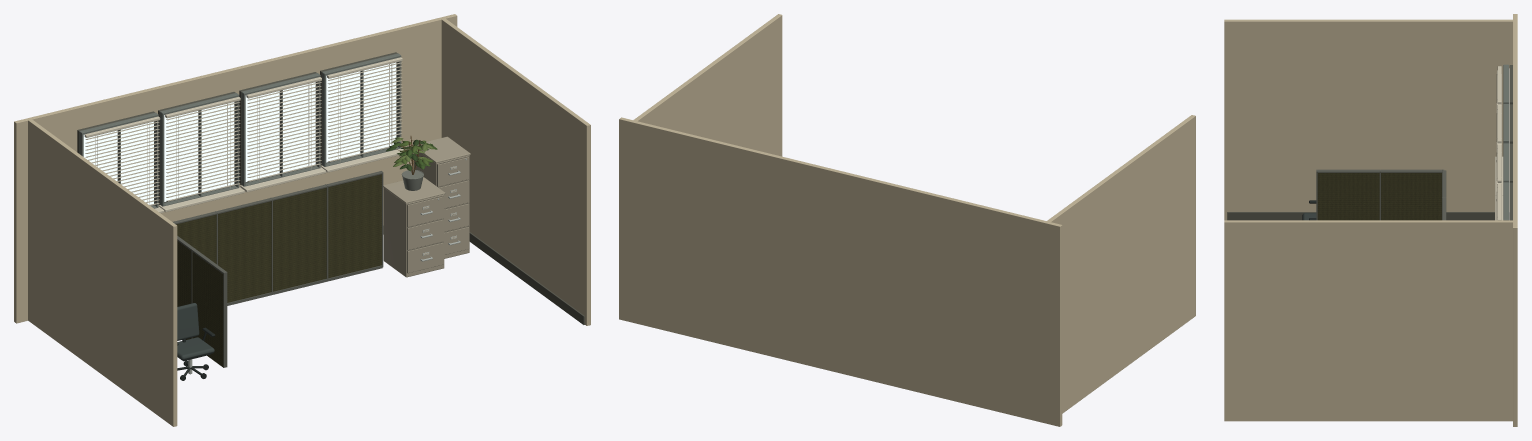
File: office-room.glb
3 views of the same model, side by side, from view 1: azimuth 30°, elevation 25°; view 2: azimuth 150°, elevation 25°; view 3: azimuth 270°, elevation 25° (orthographic).
Parts seen in each view (by area): view 1: Room_Warm painted plaster, Room_Olive woven cubicle fabric, Room_Soft daylight beyond glass, Room_Ivory venetian blind slats, Room_Putty powder coated filing cabinets, Room_Aged aluminum window frame, Room_Dark skirting, Room_Charcoal cubicle frame, Room_Charcoal upholstered chair; view 2: Room_Warm painted plaster; view 3: Room_Warm painted plaster, Room_Olive woven cubicle fabric, Room_Dark skirting, Room_Ivory venetian blind slats, Room_Charcoal cubicle frame, Room_Aged aluminum window frame.
Part boxes in pixels (<box>): Room_Warm painted plaster: <box>14,14,590,426</box>; Room_Olive woven cubicle fabric: <box>176,174,381,367</box>; Room_Soft daylight beyond glass: <box>83,62,396,204</box>; Room_Ivory venetian blind slats: <box>84,57,456,255</box>; Room_Putty powder coated filing cabinets: <box>383,136,470,277</box>; Room_Aged aluminum window frame: <box>79,53,401,208</box>; Room_Dark skirting: <box>77,52,584,324</box>; Room_Charcoal cubicle frame: <box>173,171,383,367</box>; Room_Charcoal upholstered chair: <box>177,303,214,360</box>; Room_Warm painted plaster: <box>619,14,1195,426</box>; Room_Warm painted plaster: <box>1224,14,1517,426</box>; Room_Olive woven cubicle fabric: <box>1317,173,1441,220</box>; Room_Dark skirting: <box>1227,65,1512,220</box>; Room_Ivory venetian blind slats: <box>1495,66,1503,220</box>; Room_Charcoal cubicle frame: <box>1316,169,1446,220</box>; Room_Aged aluminum window frame: <box>1503,64,1508,220</box>.
Size of what is drawn, in the model's own units: 32 by 13.9 by 18.55.
Materials: 19 (1 with a texture image).
